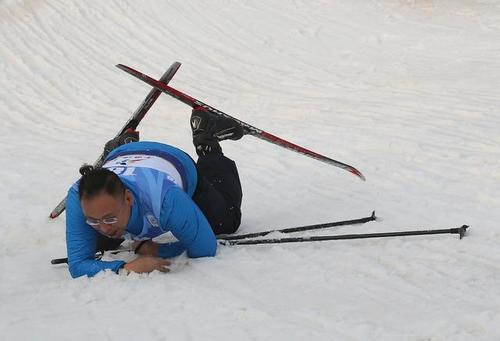fall: (41, 88, 263, 288)
